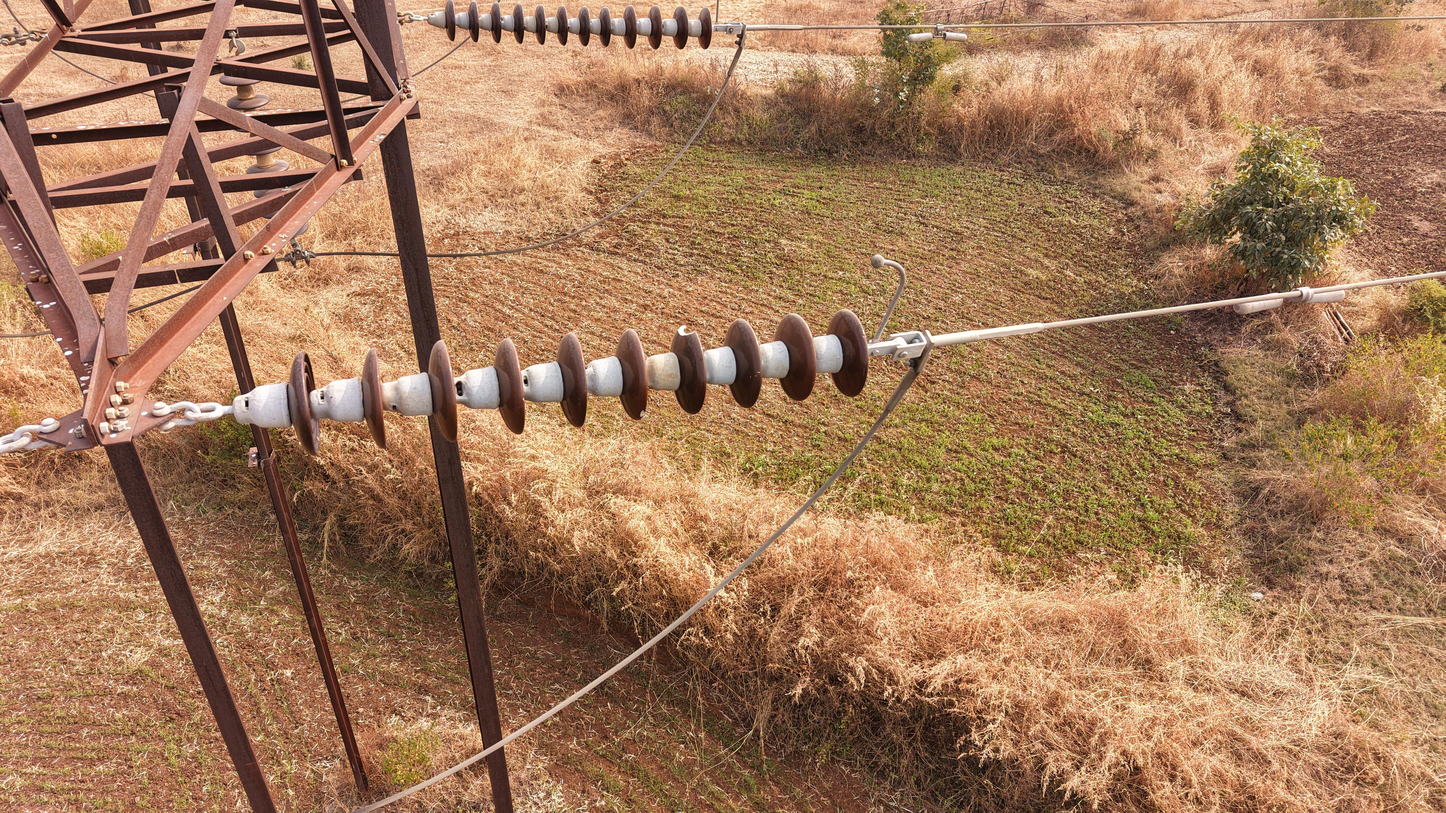broken_insulator: (673, 322, 708, 415), (617, 325, 649, 423)
